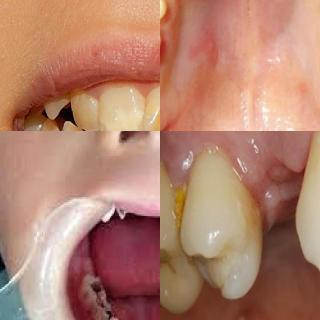cavities: (82, 279, 108, 303), (90, 299, 112, 320)
maligned: (70, 92, 102, 128), (54, 119, 86, 131)
plaque: (160, 174, 204, 226)
